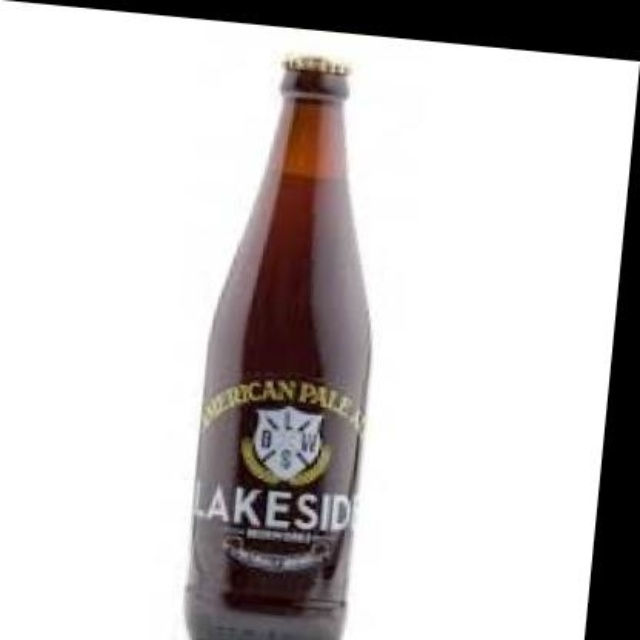trash: (188, 58, 369, 638)
